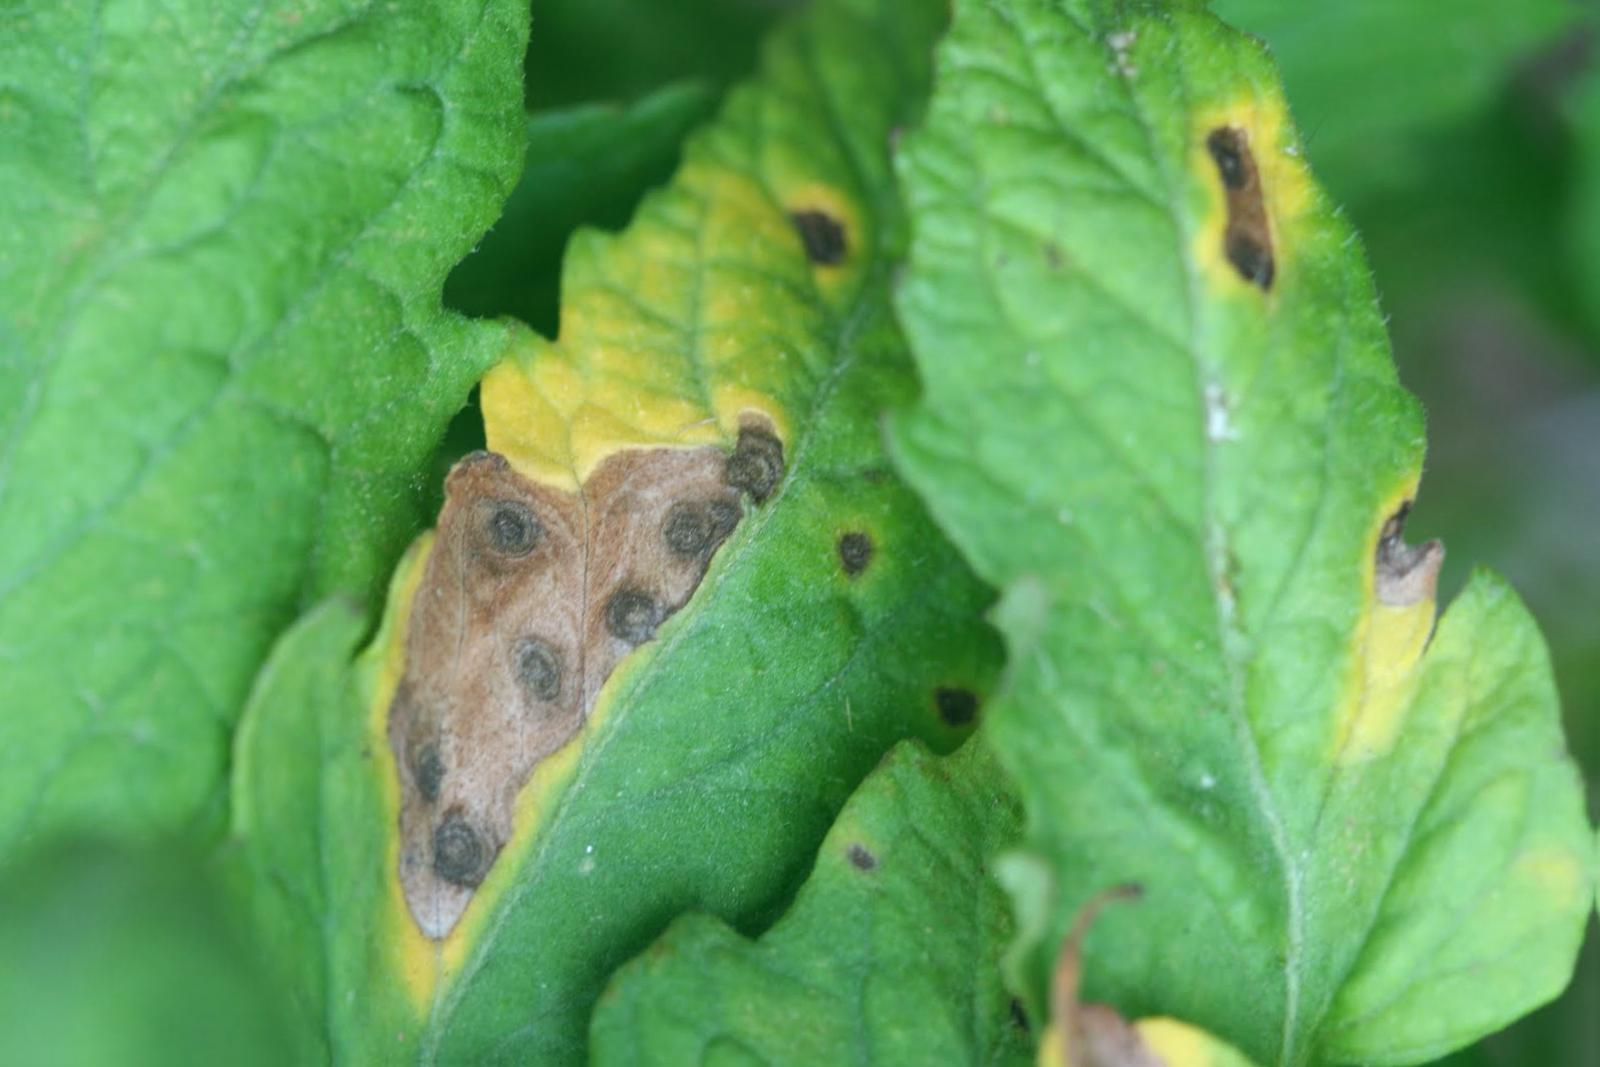Tomato leaf late blight: (194, 37, 1075, 1063), (840, 21, 1596, 1057)
